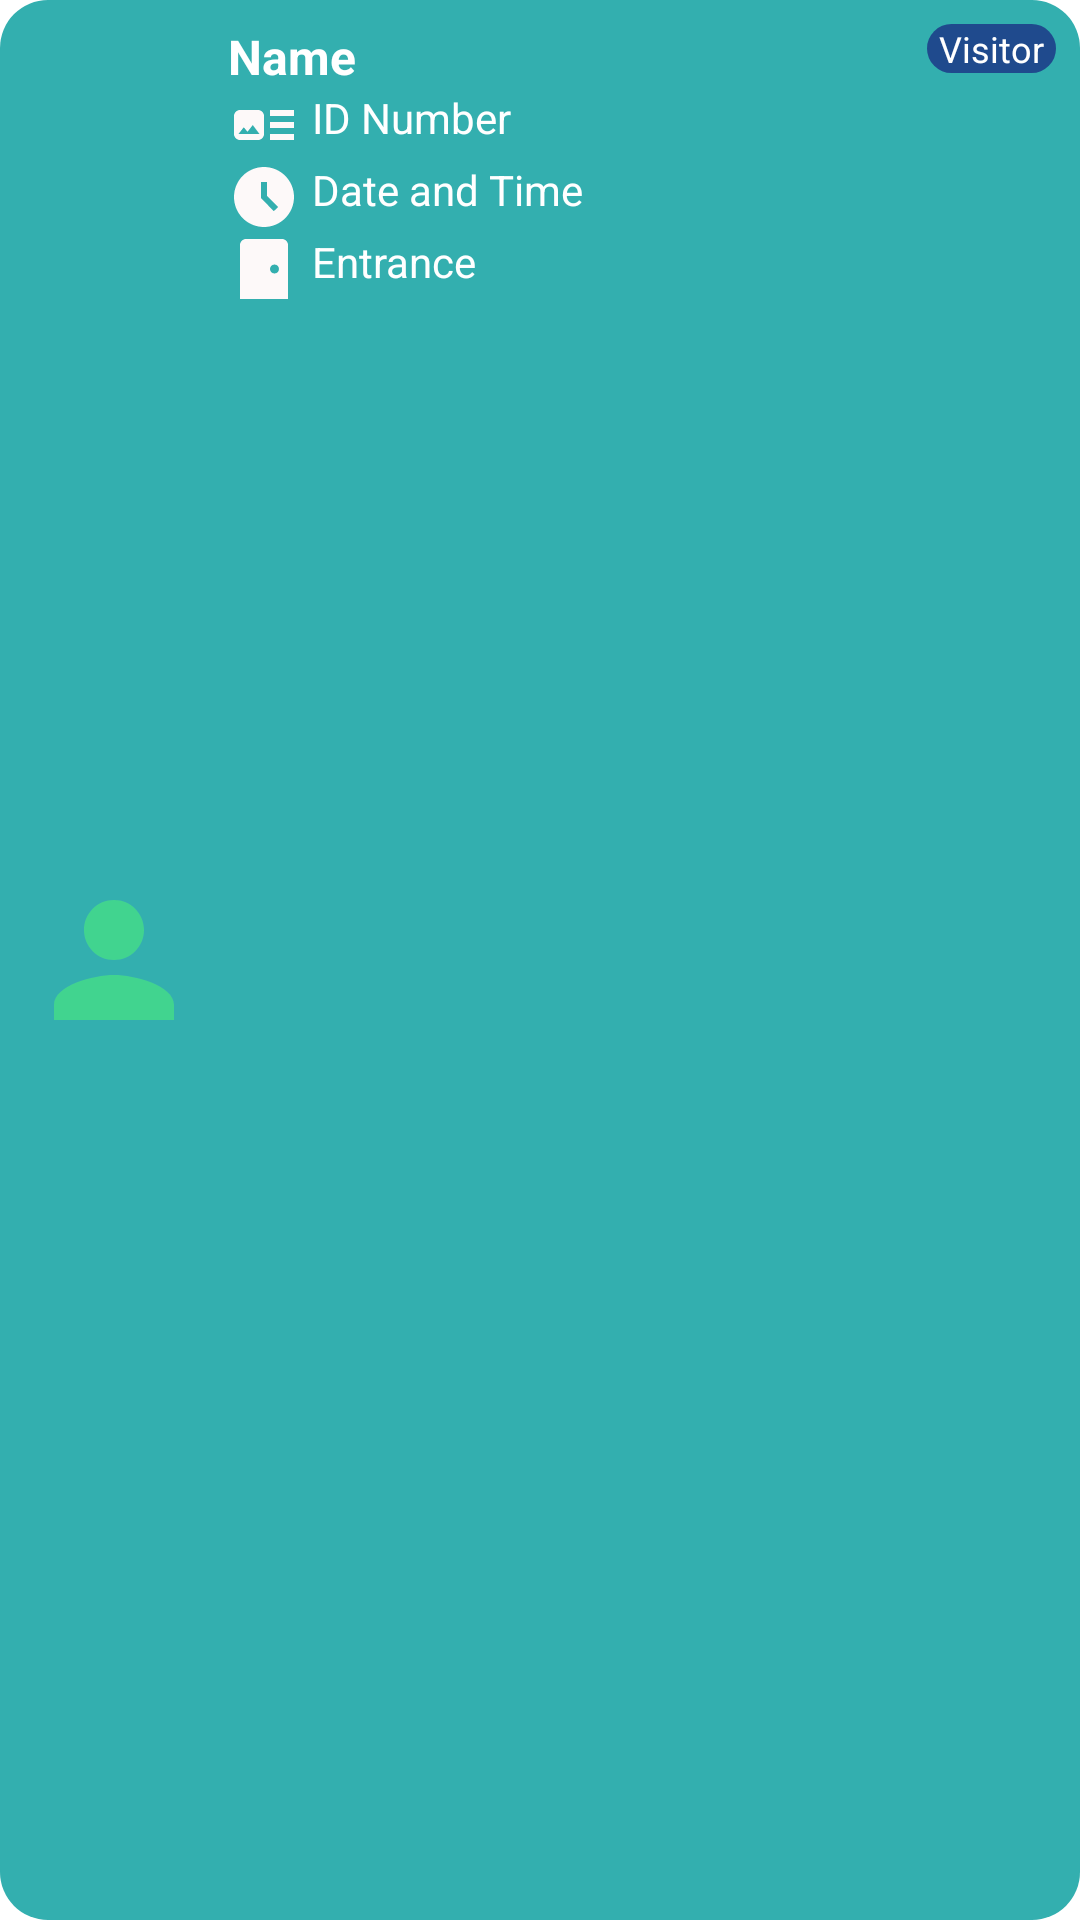

Screen size 1080x1920. Icon name, then its box in pixels as (x1, y1, x2, y2):
person: (54, 900, 174, 1020)
